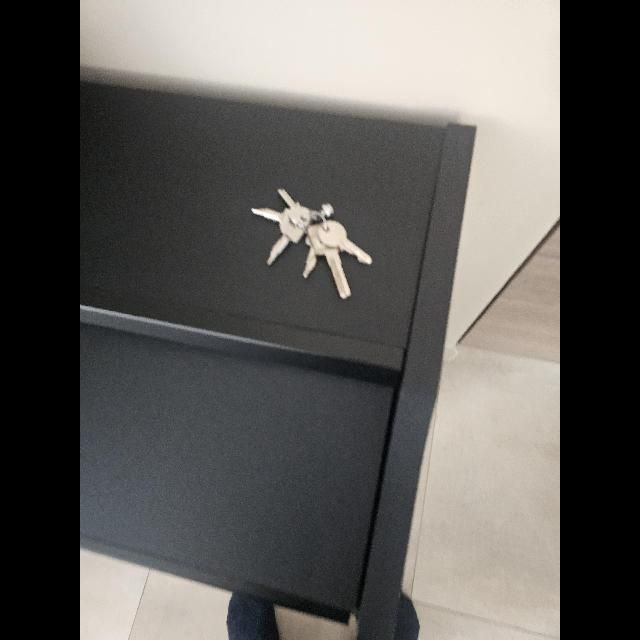Keys: (250, 188, 374, 302)
